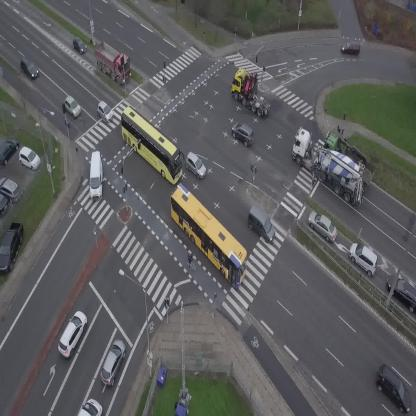bicycle: (184, 253, 195, 274)
bus: (155, 182, 261, 289), (108, 105, 195, 186)
car: (53, 308, 92, 359), (240, 204, 282, 245), (97, 337, 130, 388), (344, 239, 385, 278), (303, 207, 343, 244), (227, 118, 260, 149), (180, 151, 211, 180), (59, 95, 85, 119), (93, 99, 117, 124), (17, 55, 40, 80), (68, 34, 89, 57), (341, 41, 361, 56)
lorry: (280, 124, 380, 210), (317, 129, 382, 191), (223, 62, 284, 120), (86, 36, 140, 87), (90, 151, 102, 200), (78, 398, 102, 416)
